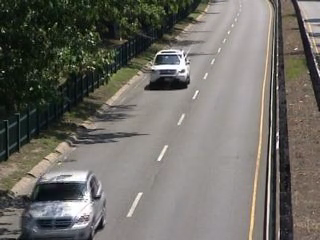car: (16, 168, 110, 240), (146, 45, 193, 92)
